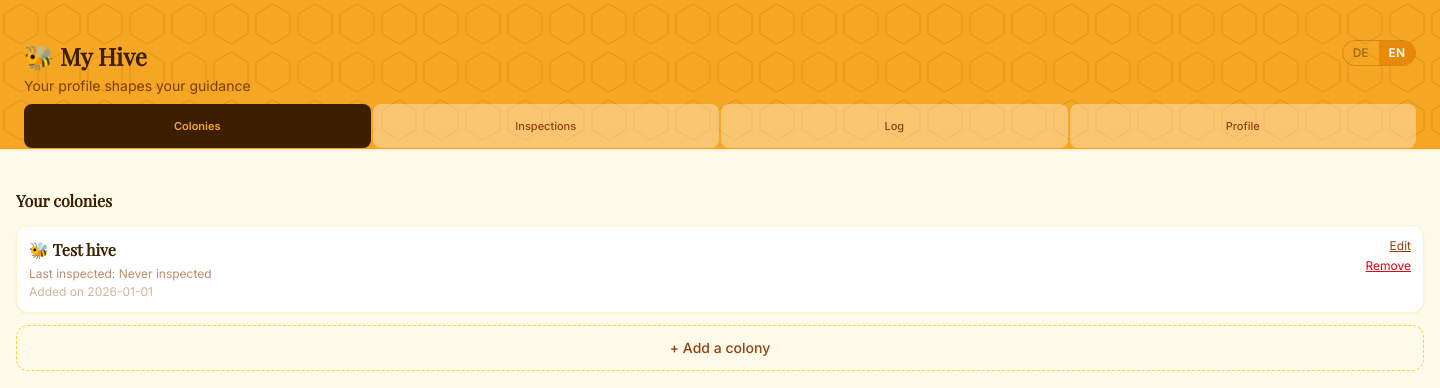
Test: MyHiveScreen › shows inspections tab content when inspections tab clicked
What coordinates should you click on to do the following:
click the button "Inspections"
I would click on:
 (546, 126)
Its box is top-left (372, 104), bottom-right (719, 148).
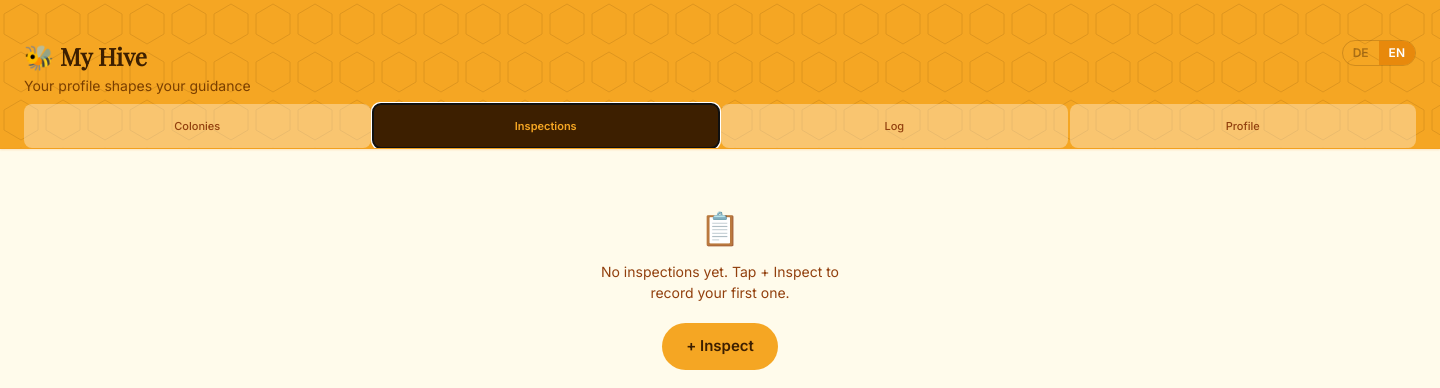
Expected: the text "No inspections yet. Tap + Inspect to record your first one." is shown, top-left (580, 261), bottom-right (860, 303)
